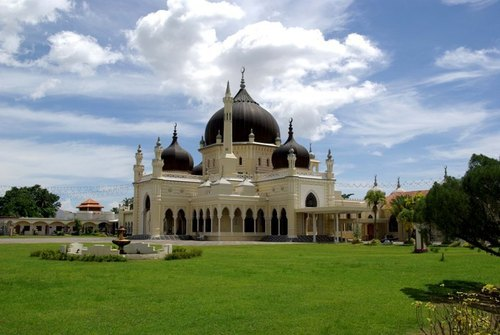Mosque: (120, 65, 367, 243)
